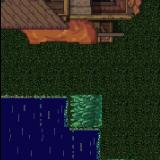Interaction: (0, 85, 81, 104), (56, 104, 82, 138), (82, 120, 115, 138), (90, 138, 116, 160)
Obstacle: (0, 0, 160, 63)
Slow: (0, 131, 97, 159), (0, 100, 63, 132), (69, 94, 101, 128)
